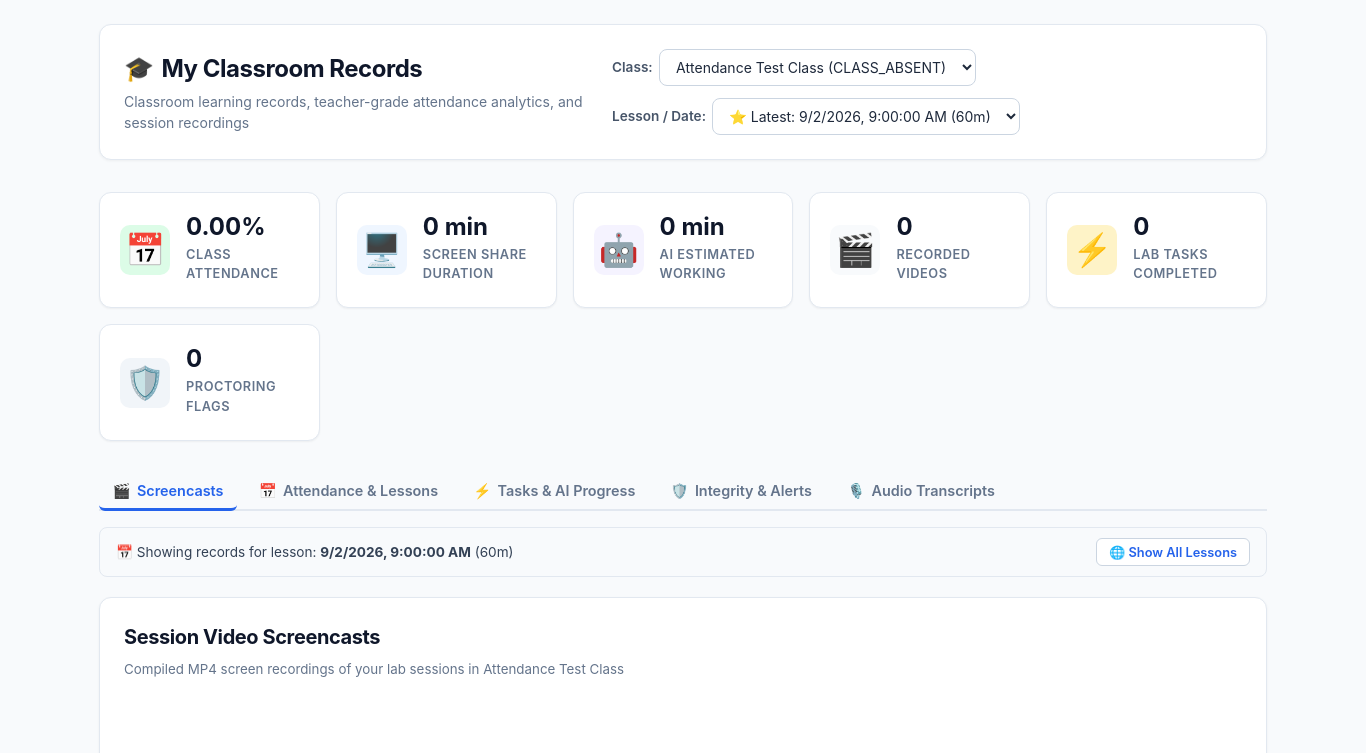
StudentRecordsView Component › includes lessons even if student has no studentEntry yet without dropping them from the lesson list
Expected: the dropdown labelled "Lesson / Date:" is shown, [712,98,1020,135]
Note: Switch to Attendance tab
Click the tab "📅 Attendance & Lessons".
click(348, 492)  # box [245,473,452,511]
(page scrolled)
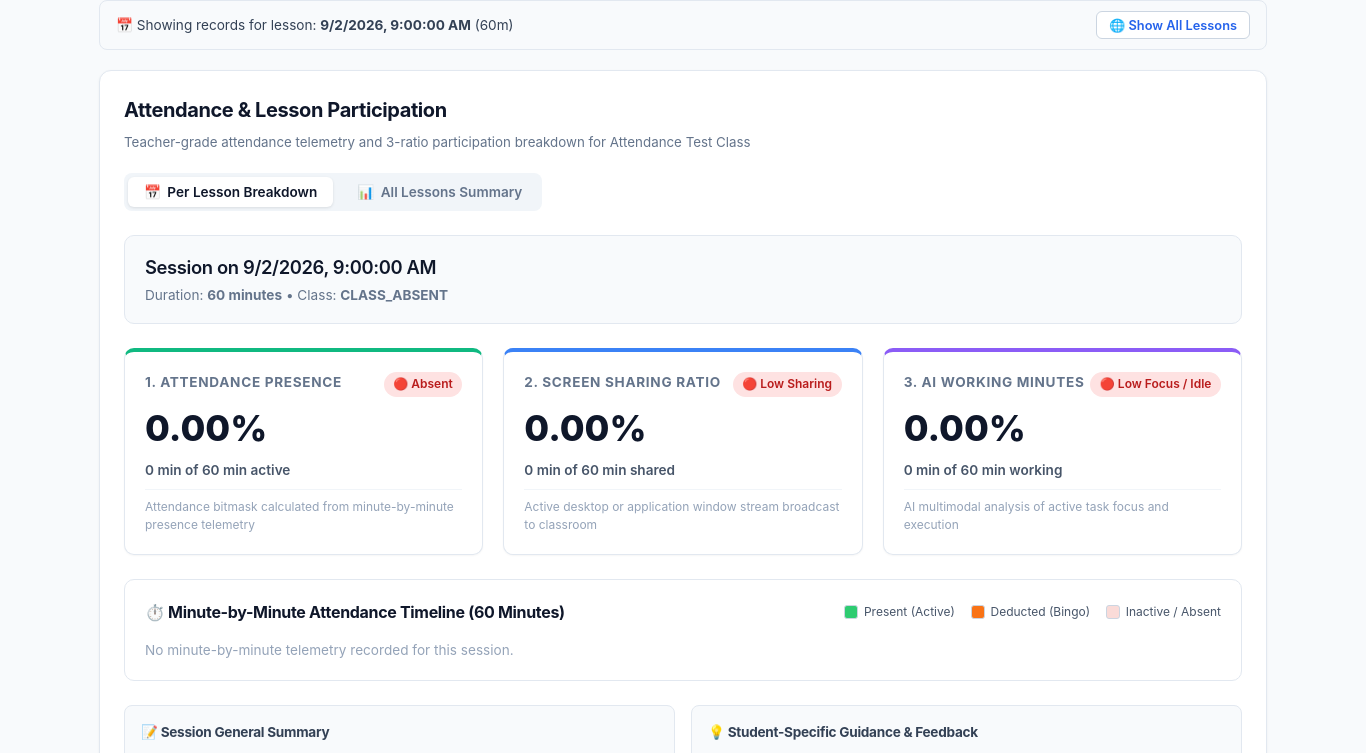
Expected: the text "🔴 Absent" is shown, [384,372,462,397]
